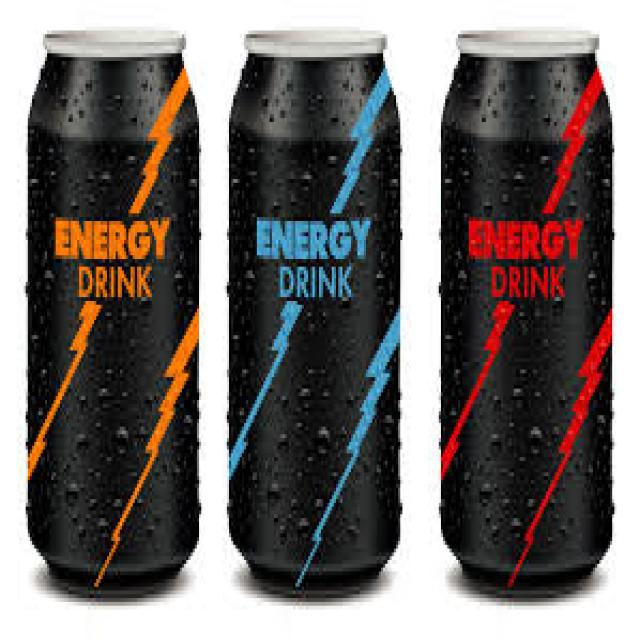Cans: (428, 15, 625, 610), (22, 15, 205, 606), (224, 16, 404, 614)
